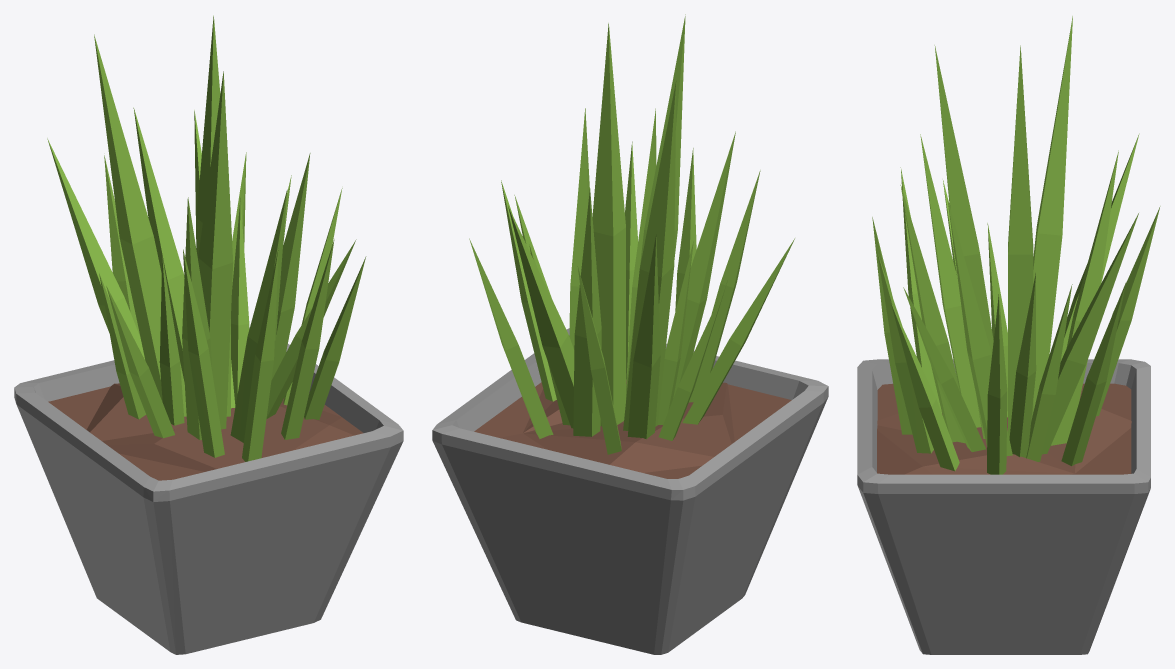
The model's file is chives-plant.glb.
3 views of the same model, side by side, from view 1: azimuth 30°, elevation 25°; view 2: azimuth 150°, elevation 25°; view 3: azimuth 270°, elevation 25° (orthographic).
Visible parts, largest first — view 1: model; view 2: model; view 3: model.
Part boxes in pixels (box(x1,y1,x2,y2)): model: box(14, 15, 403, 654); model: box(432, 14, 828, 654); model: box(857, 16, 1160, 654).
Size of the model in its own units: 0.4744 by 1 by 0.4718.
